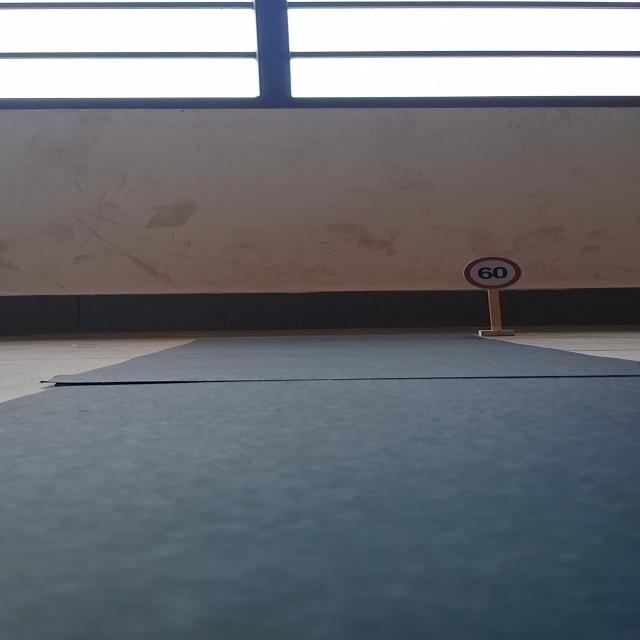Speed60: (463, 256, 520, 288)
